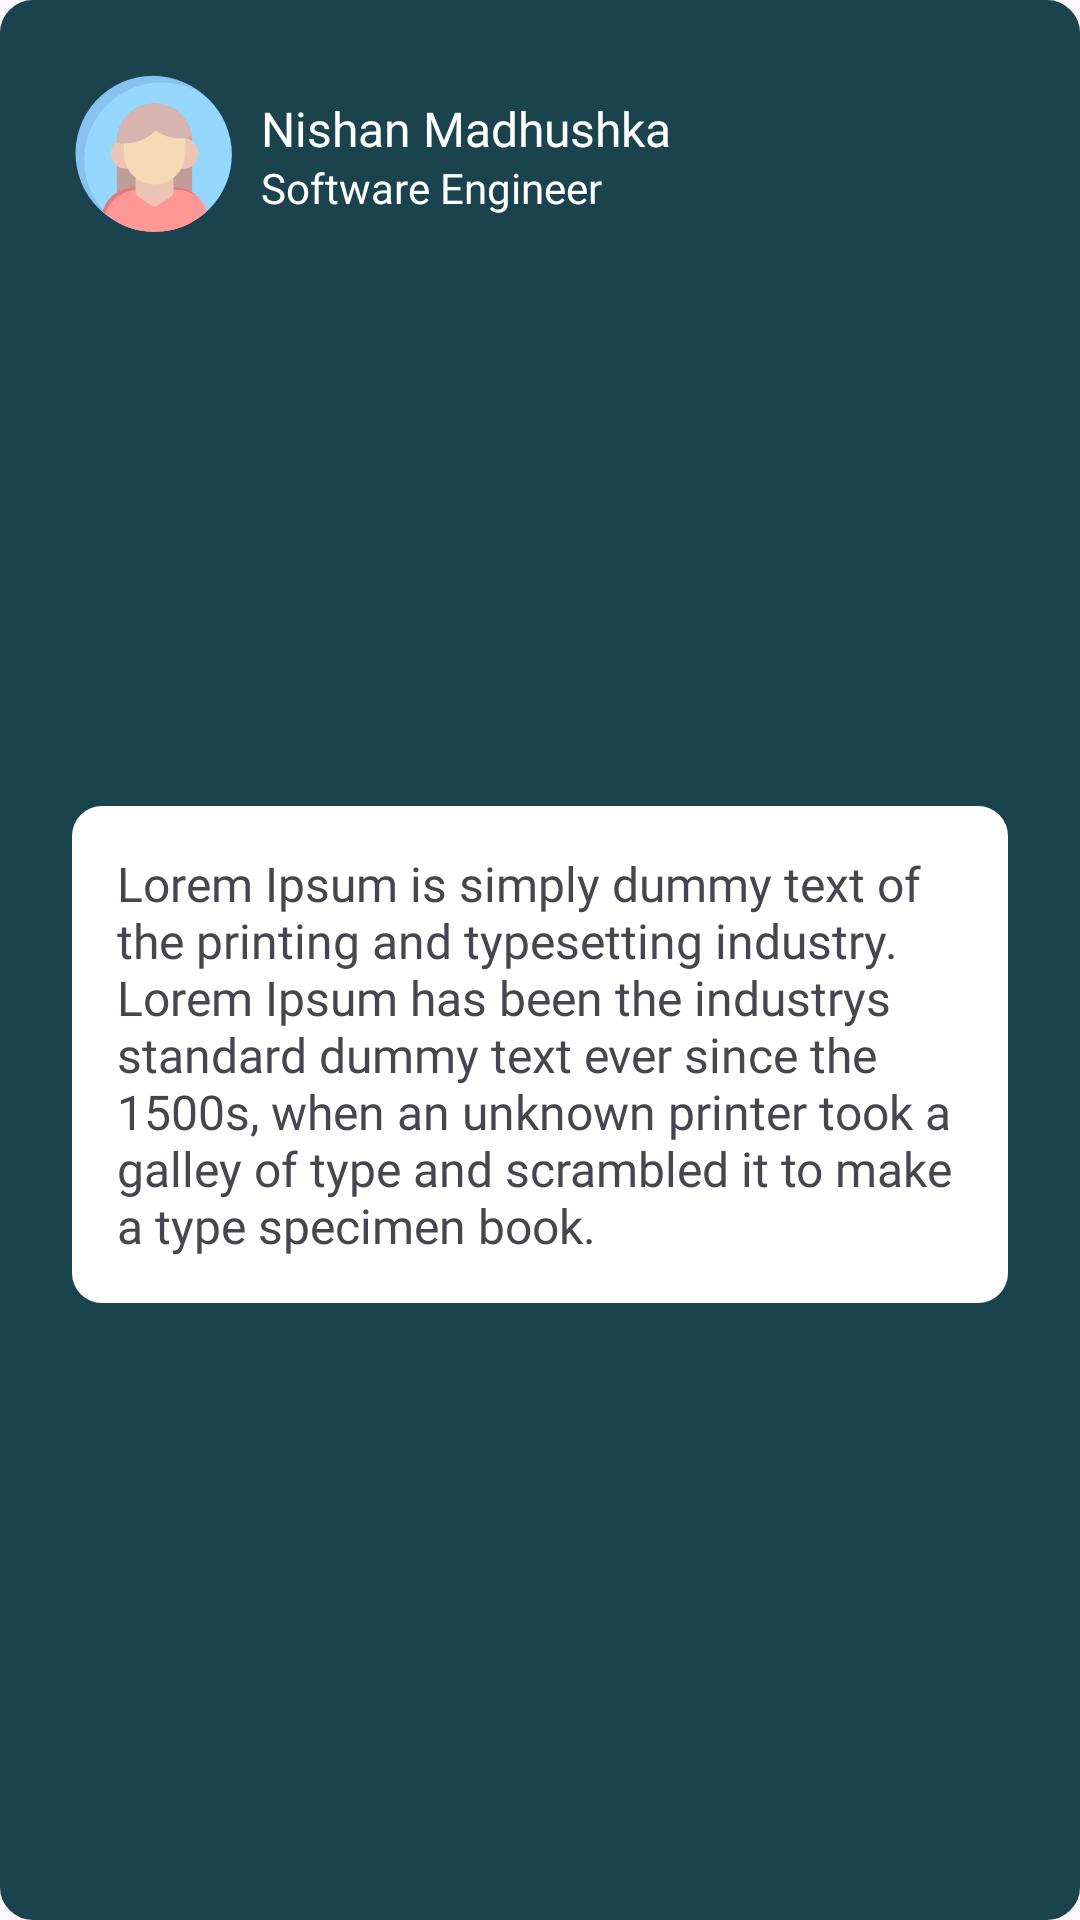

Icons on this 1080px x 1920px Android screen, each with its box as region(x1, y1, x2, y2):
profile: region(75, 75, 232, 232)
